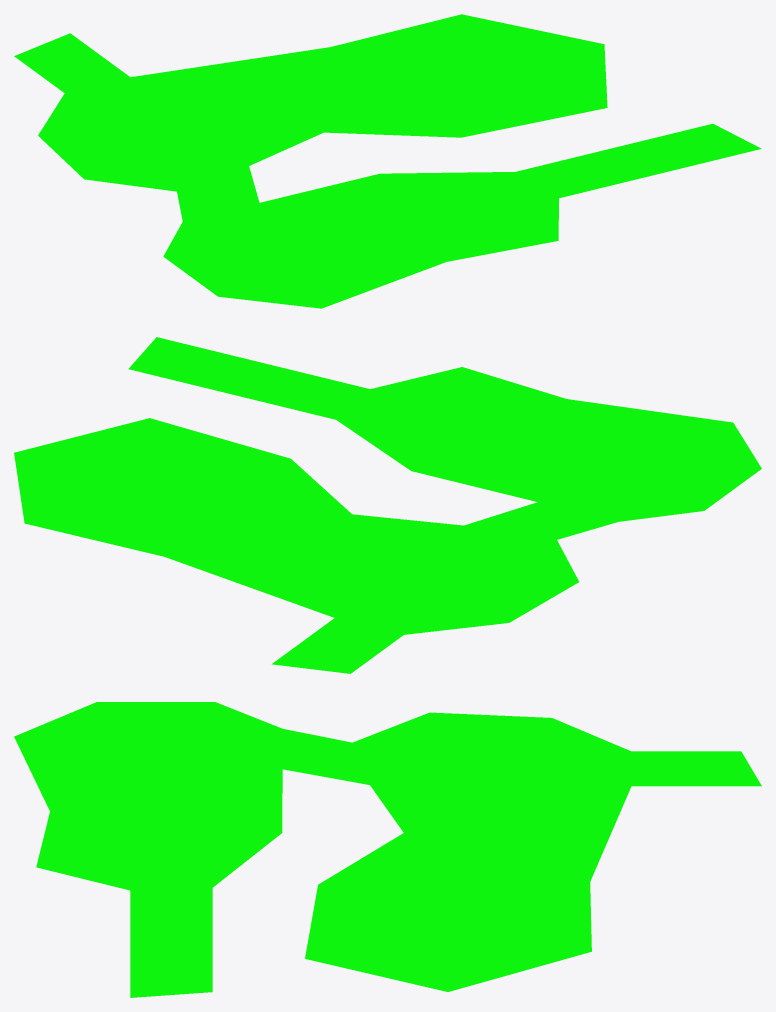
Rendered from s01a_lc1-floor.glb.
The picture shows the model from 3 angles, top to bottom: view 1: azimuth 30°, elevation 25°; view 2: azimuth 150°, elevation 25°; view 3: azimuth 270°, elevation 25°; orthographic projection. The views are drawn at different scales.
Visible parts, largest first — view 1: collision_floor-colonly; view 2: collision_floor-colonly; view 3: collision_floor-colonly.
Boxes of the visible parts, x1=… form: collision_floor-colonly: x1=14, y1=14, x2=761, y2=308; collision_floor-colonly: x1=14, y1=337, x2=761, y2=673; collision_floor-colonly: x1=14, y1=702, x2=761, y2=997.
Size of the model in its own units: 51 by 0 by 54.48.
